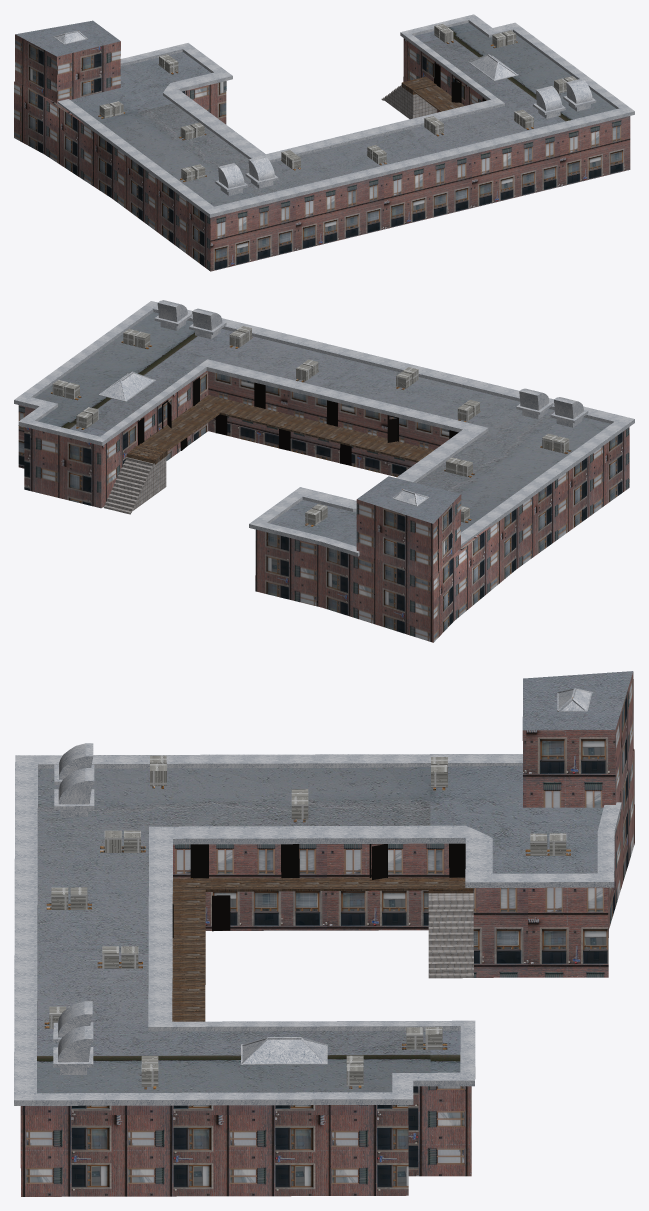
Rendered from LongBuilding.FBX.
3 renders of one model, top to bottom at view 1: azimuth 30°, elevation 25°; view 2: azimuth 150°, elevation 25°; view 3: azimuth 270°, elevation 25°, orthographic. The views are drawn at different scales.
Visible parts, largest first — view 1: LongBuilding; view 2: LongBuilding; view 3: LongBuilding.
Boxes of the visible parts, x1,y1,x2,y2 form: LongBuilding: (14, 14, 634, 271); LongBuilding: (14, 300, 634, 642); LongBuilding: (14, 671, 634, 1196).
Size of the model in its own units: 74897 by 55722 by 18987.
Materials: 12 (11 with a texture image).
